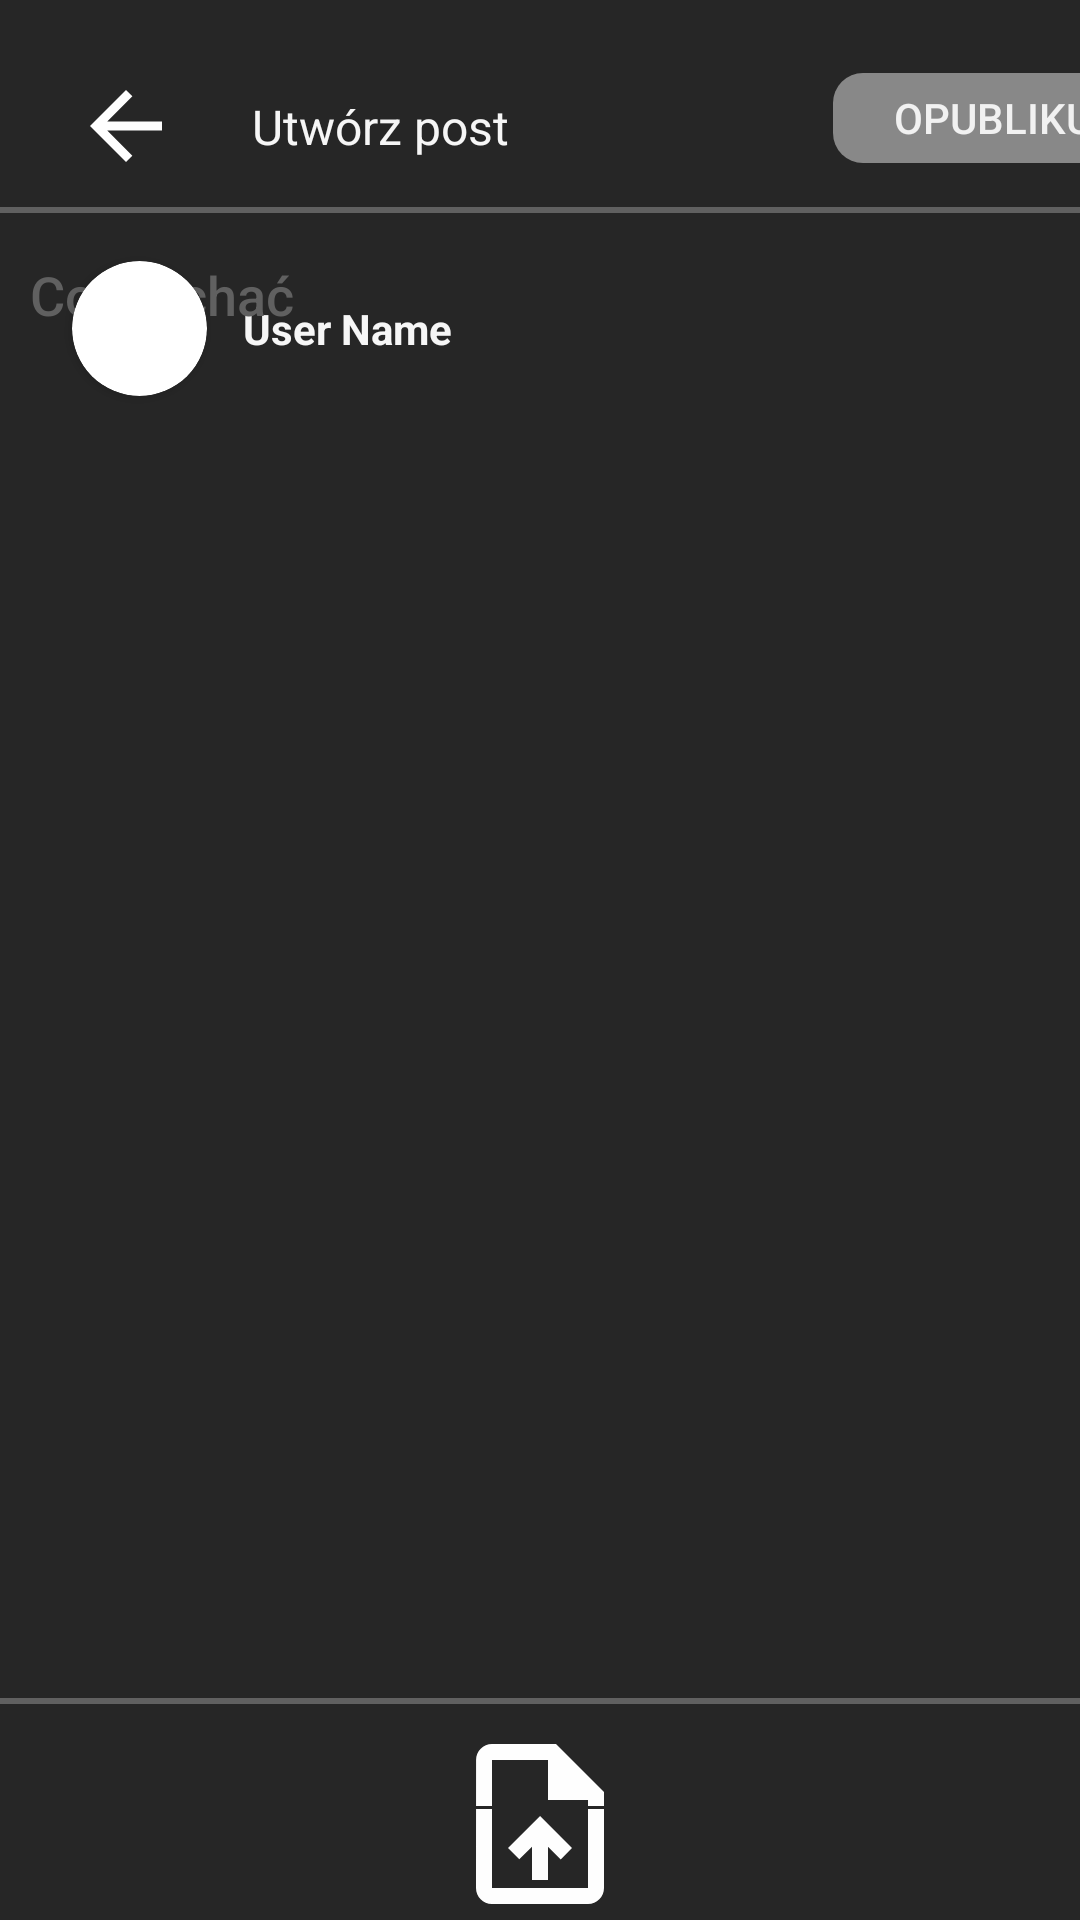

Named icons in this screenshot (1080 × 1920) and their centers, point (x, y):
arrow back: point (126, 126)
upload file: point (540, 1824)
